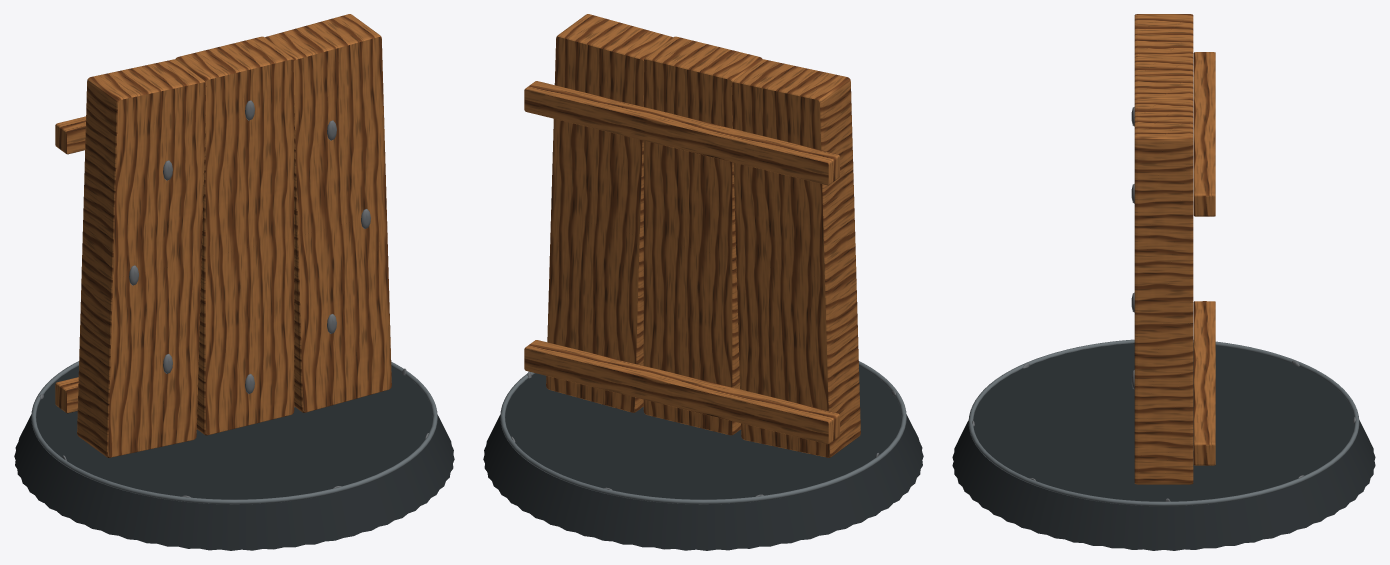
The picture shows the model from 3 angles, left to right: view 1: azimuth 30°, elevation 25°; view 2: azimuth 150°, elevation 25°; view 3: azimuth 270°, elevation 25°; orthographic projection. The views are drawn at different scales.
Parts seen in each view (by area): view 1: surface specimen, neutral specimen stand, specimen edge, turned rim; view 2: surface specimen, neutral specimen stand, specimen edge; view 3: neutral specimen stand, surface specimen, specimen edge.
Boxes of the visible parts, x1,y1,x2,y2 form: surface specimen: [55, 14, 391, 457]; neutral specimen stand: [14, 366, 454, 550]; specimen edge: [31, 361, 437, 504]; turned rim: [129, 100, 370, 393]; surface specimen: [524, 14, 860, 457]; neutral specimen stand: [483, 366, 923, 550]; specimen edge: [500, 361, 906, 504]; neutral specimen stand: [952, 343, 1375, 550]; surface specimen: [1134, 14, 1215, 484]; specimen edge: [968, 339, 1359, 506].
Bounding box in the file's own units: 0.539 × 0.5433 × 0.539.
Materials: 4 (1 with a texture image).
